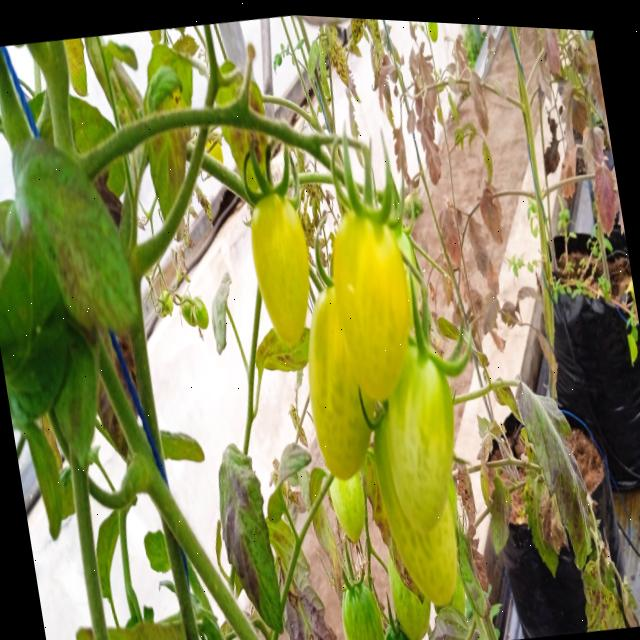fine: (326, 190, 421, 391), (302, 281, 378, 472), (242, 201, 320, 343)
unripe: (364, 410, 468, 614), (376, 315, 466, 520), (363, 549, 443, 632), (313, 469, 380, 557), (330, 577, 394, 640)
